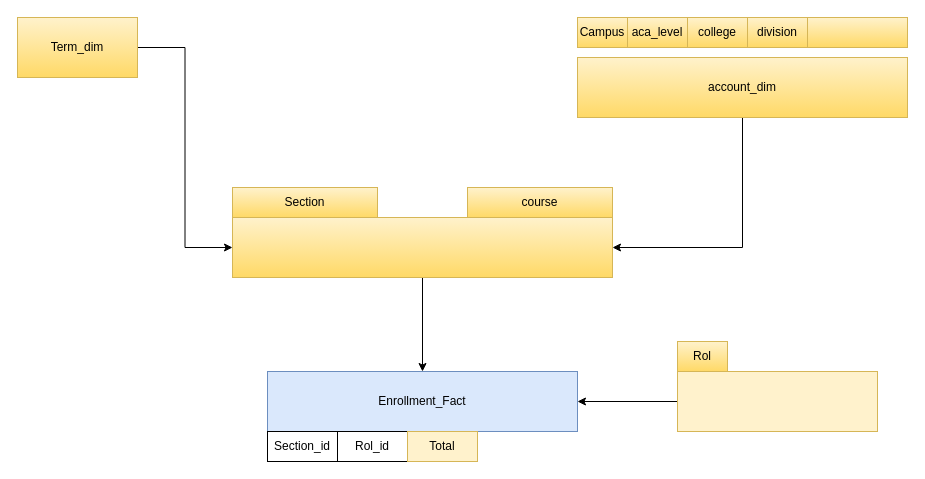
Some shapes in this 925 by 479 pixel diagram are drawn without their labels. The centre of each missing label's shape, as x and y in pixels:
departemento: point (857, 32)
Roles_Dim: point (777, 401)
Section_Dim: point (422, 247)
